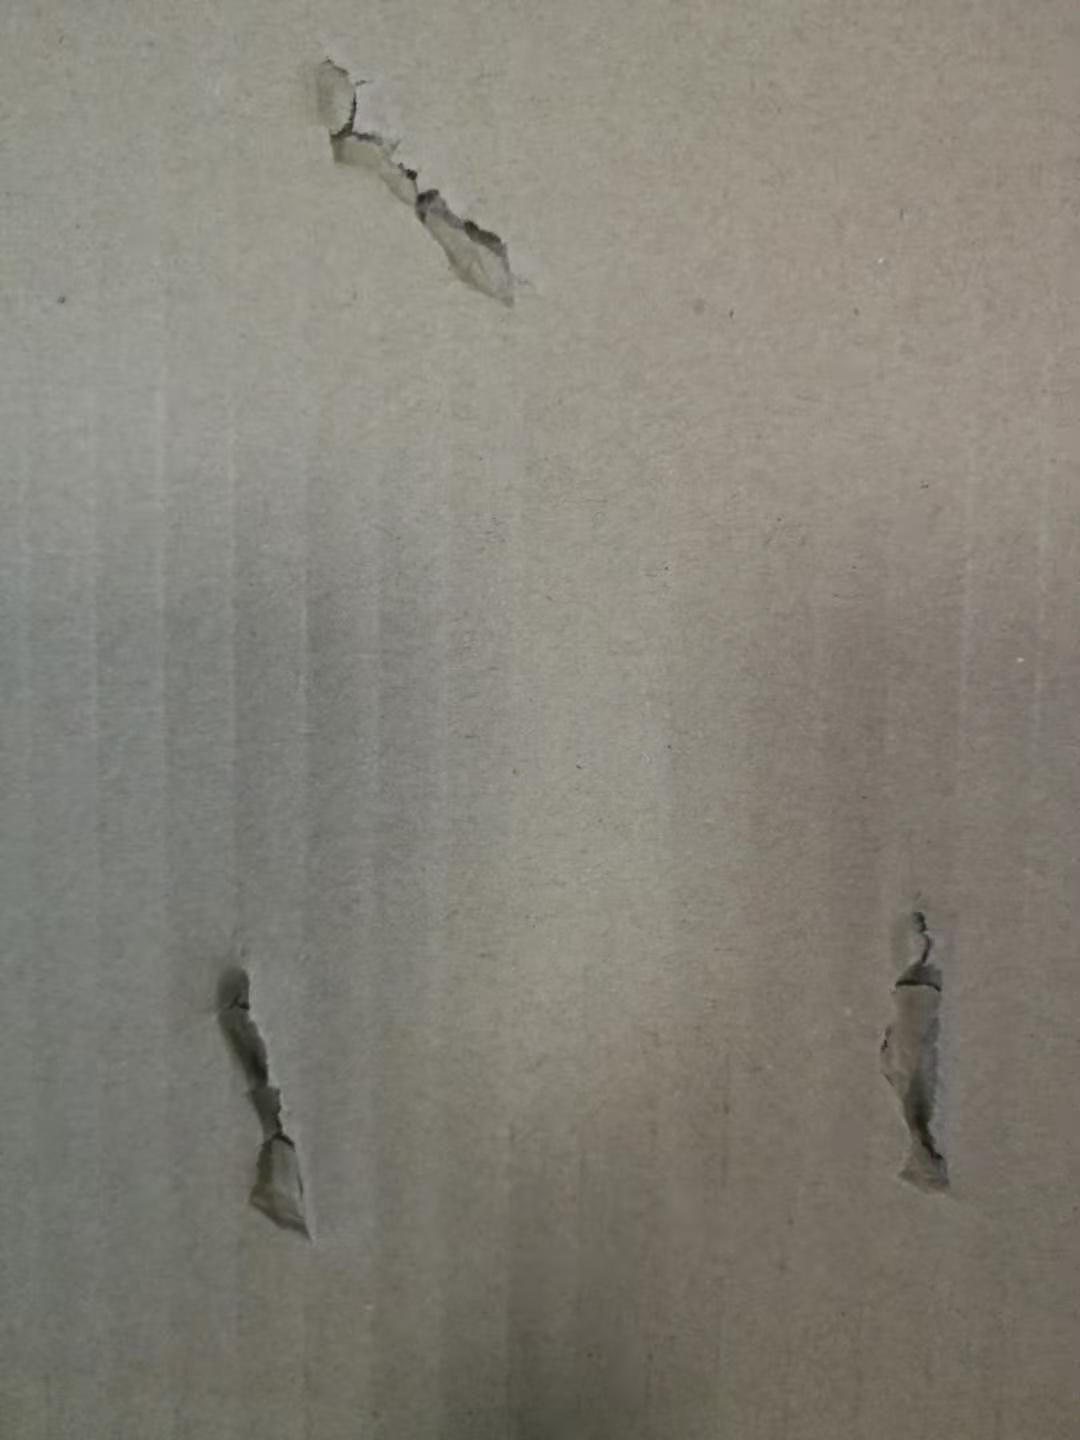defect: (271, 22, 560, 341), (179, 916, 357, 1272), (839, 867, 1012, 1233)
